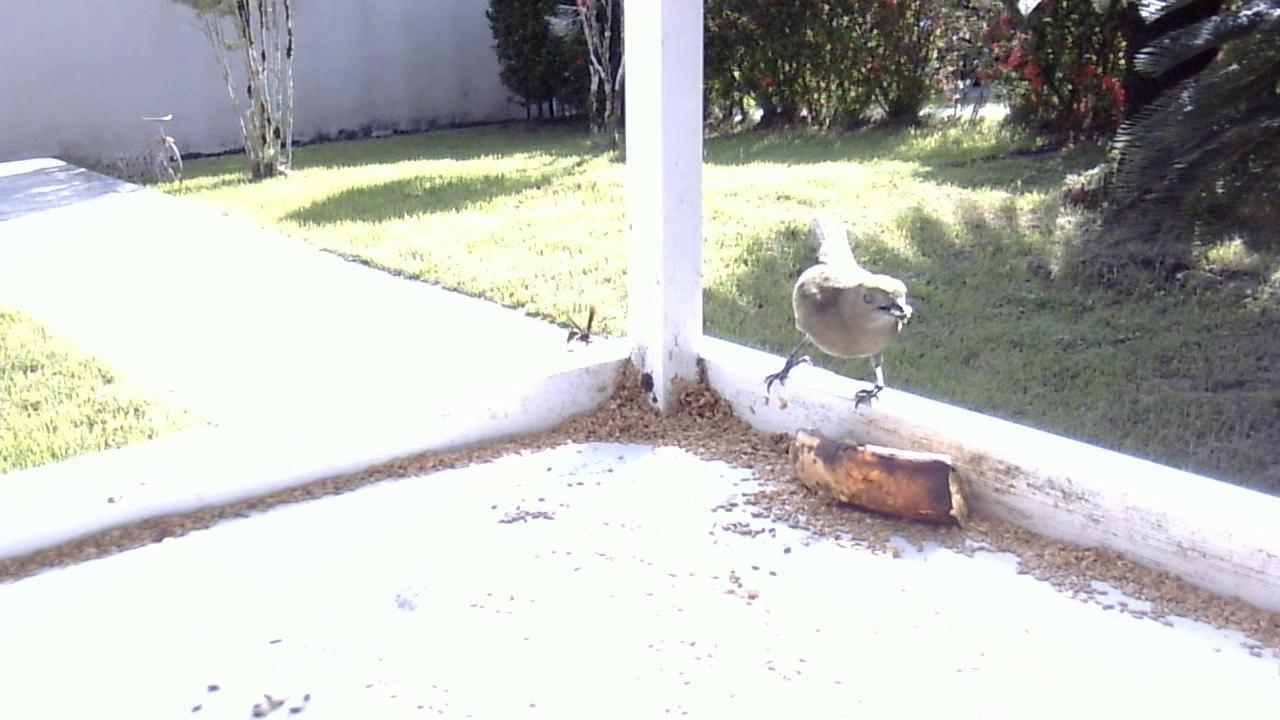sanhaco_do_coqueiro: (758, 209, 919, 419)
